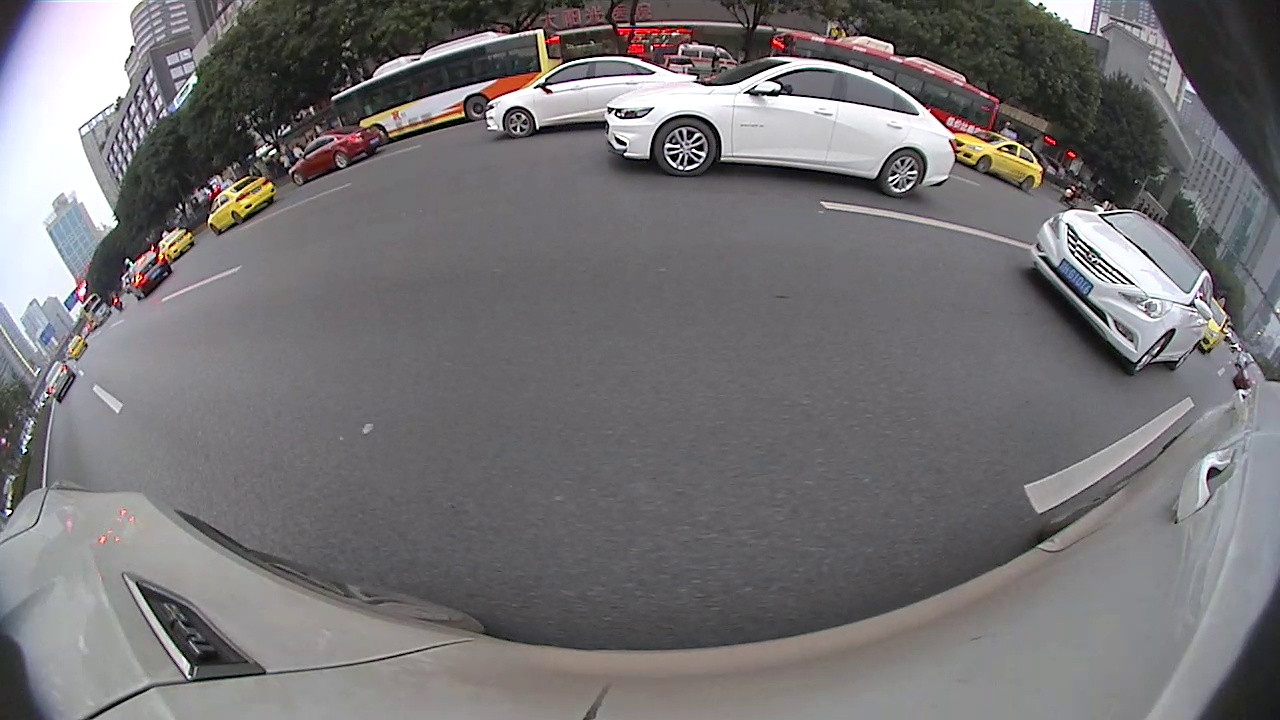bus: (331, 29, 566, 145), (771, 33, 999, 135)
car: (603, 56, 957, 199), (1028, 210, 1213, 376), (483, 55, 699, 139), (288, 124, 383, 188), (951, 135, 1044, 194), (208, 174, 278, 237), (127, 248, 174, 302), (44, 359, 78, 406), (155, 227, 196, 265)
front: (654, 121, 716, 174), (1127, 334, 1172, 373), (504, 111, 534, 137), (976, 155, 990, 173), (294, 171, 304, 186)
rear: (882, 151, 926, 198), (1172, 342, 1198, 369), (467, 98, 488, 118), (1022, 176, 1035, 190), (335, 152, 347, 167)
